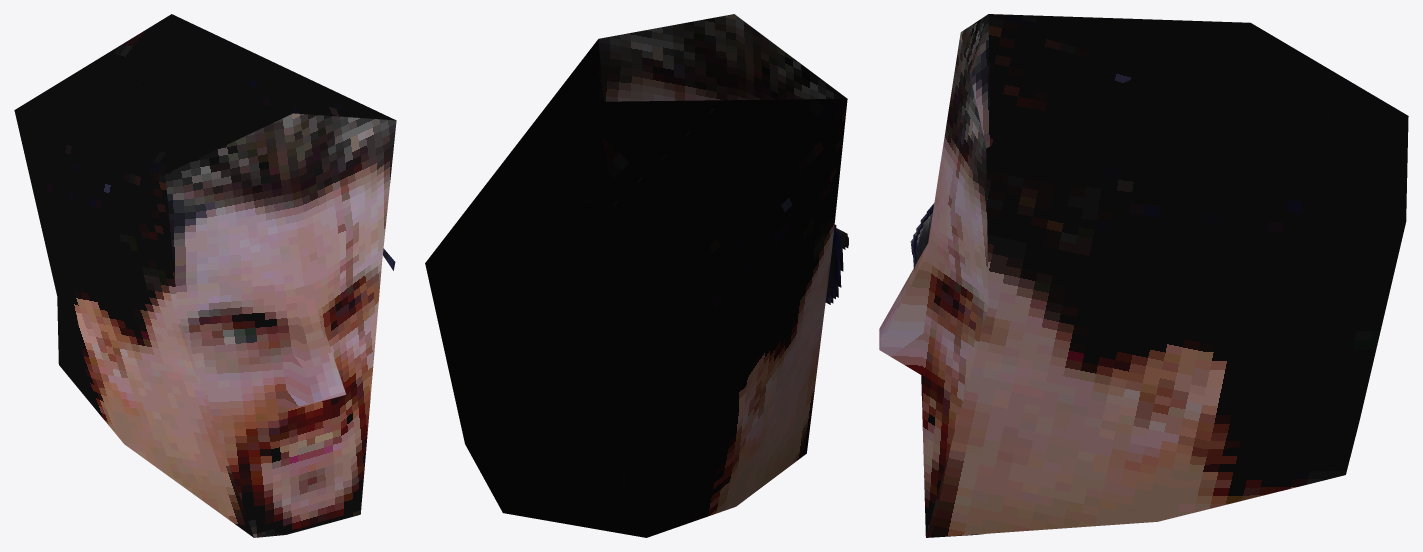
Rendered from CheadchrisZ.obj.
3 views of the same model, side by side, from view 1: azimuth 30°, elevation 25°; view 2: azimuth 150°, elevation 25°; view 3: azimuth 270°, elevation 25° (orthographic). The views are drawn at different scales.
Size of the model in its own units: 150 by 244 by 228.
Materials: 10 (10 with a texture image).
